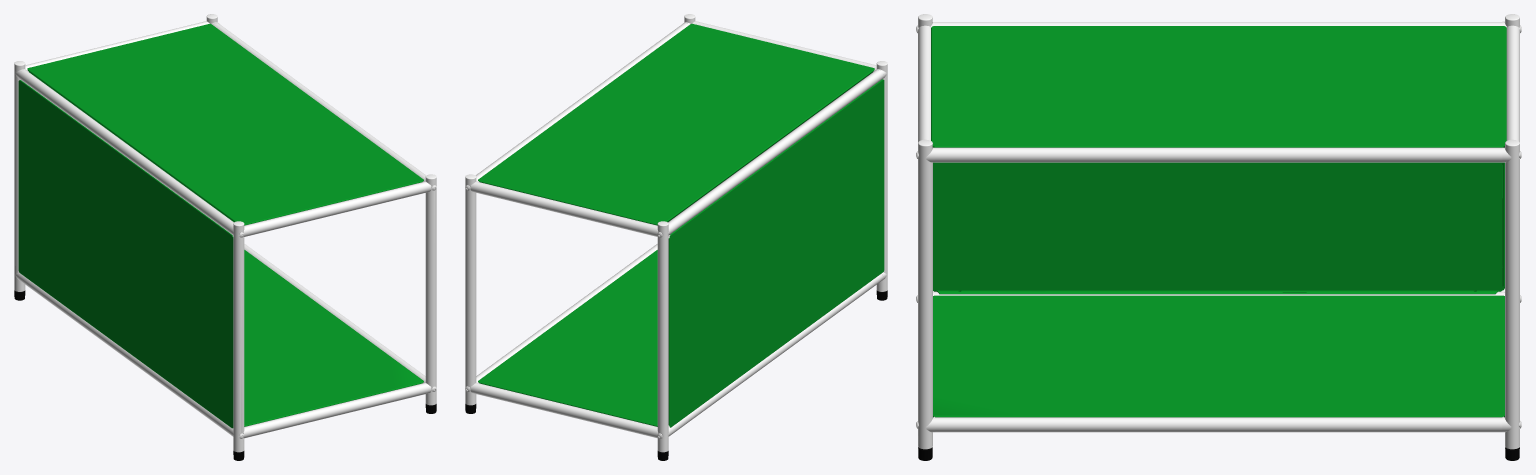
Rendered from 80x40x40-1-2-green_optimized_optimized.glb.
3 renders of one model, left to right at view 1: azimuth 30°, elevation 25°; view 2: azimuth 150°, elevation 25°; view 3: azimuth 270°, elevation 25°, orthographic. The views are drawn at different scales.
Parts seen in each view (by area): view 1: 直角鐵板-80x40-5 - 零件, new-上塞-1 - 零件; view 2: 直角鐵板-80x40-5 - 零件, new-上塞-1 - 零件; view 3: 直角鐵板-80x40-5 - 零件, new-上塞-1 - 零件.
Boxes of the visible parts, x1,y1,x2,y2 form: 直角鐵板-80x40-5 - 零件: (18,23,423,428); new-上塞-1 - 零件: (14,14,436,452); 直角鐵板-80x40-5 - 零件: (478,23,884,427); new-上塞-1 - 零件: (465,14,887,452); 直角鐵板-80x40-5 - 零件: (931,26,1506,417); new-上塞-1 - 零件: (916,14,1521,449).
Bounding box in the file's own units: 0.3992 × 0.4453 × 0.7732.
